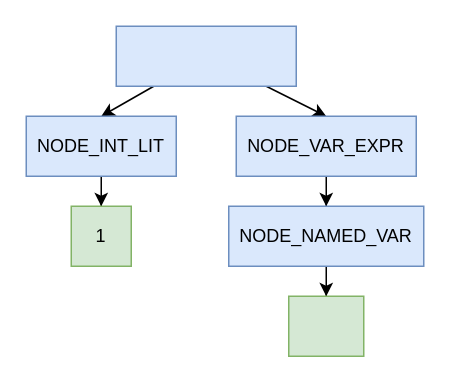
Some shapes in this 450 by 383 pixel diagram are drawn without their labels. The box of each missing label's shape, as (x1, y1, x2, y2) in pixels:
myVar: (287, 295, 364, 356)
NODE_BIN_EXPR: (115, 25, 296, 86)
